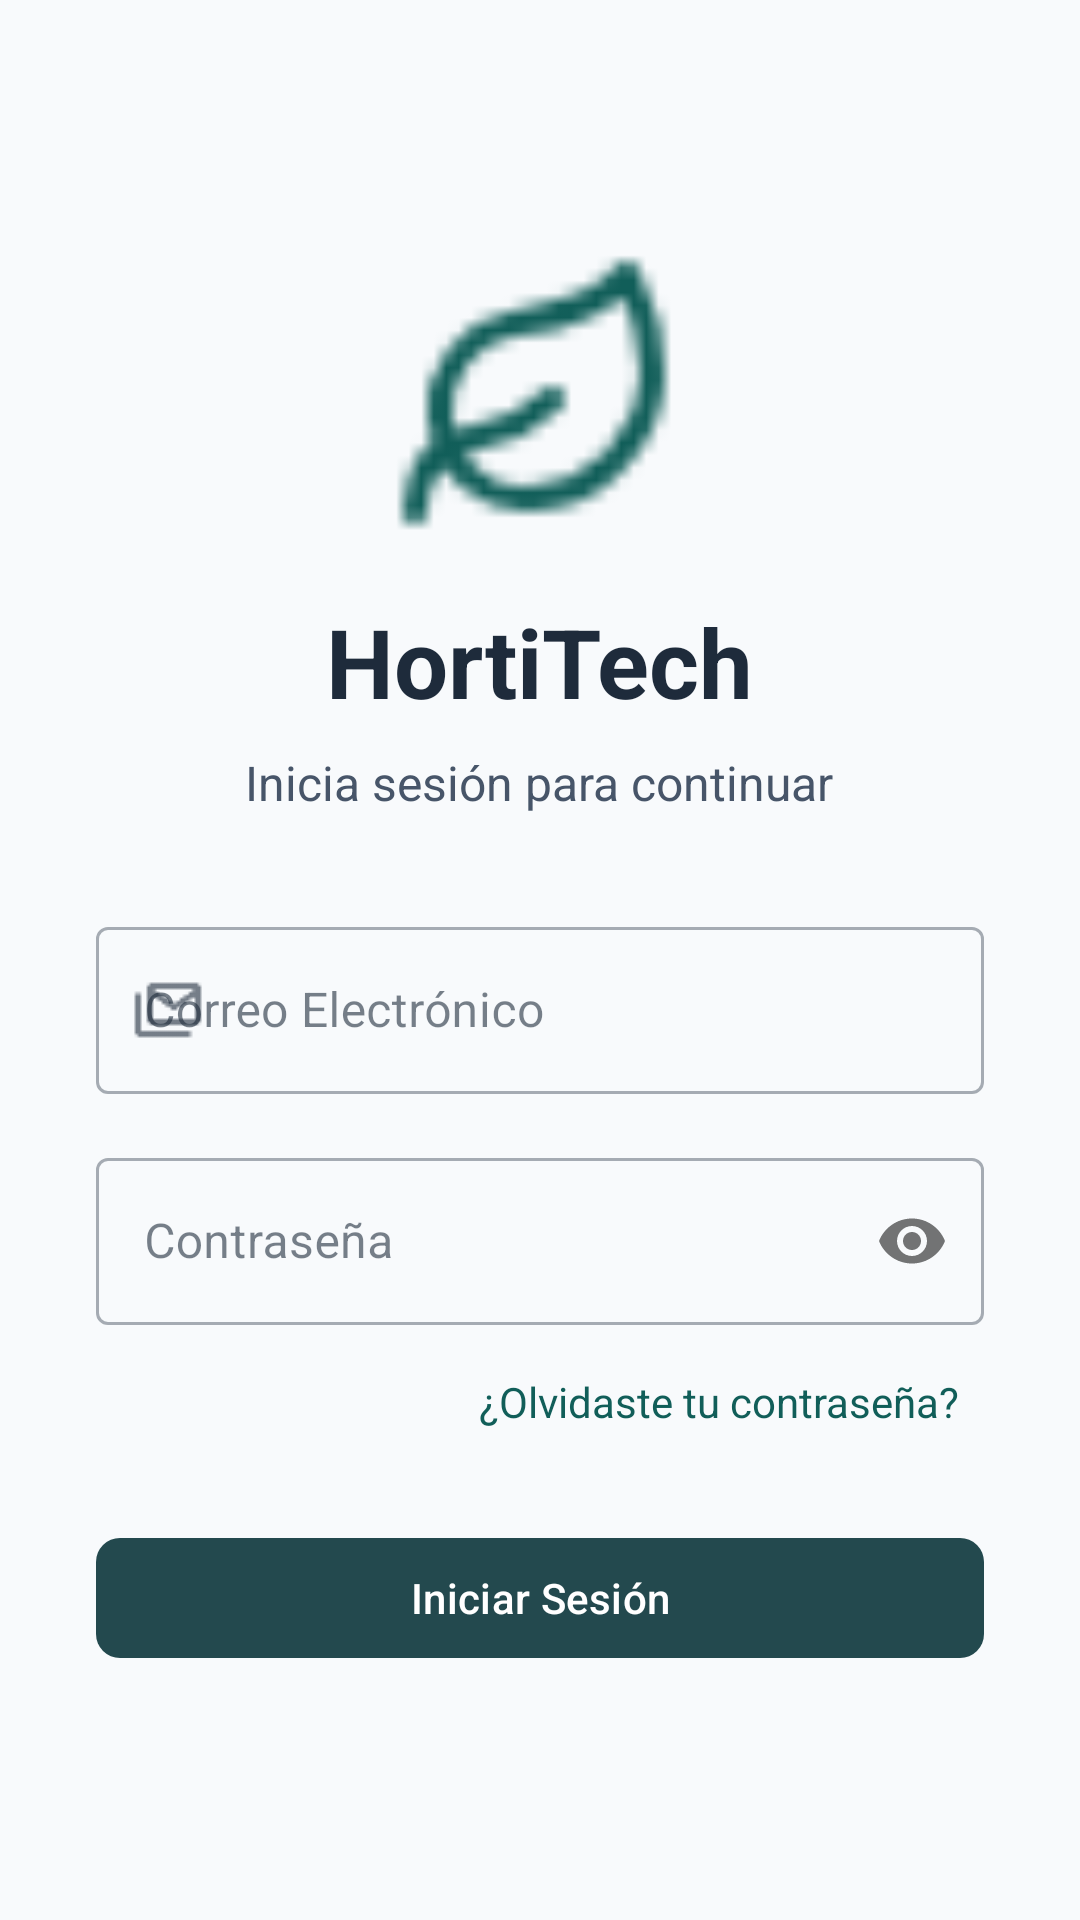

Named icons in this screenshot (1080×1920) and their centers, point (x, y):
leaf: point (534, 393)
